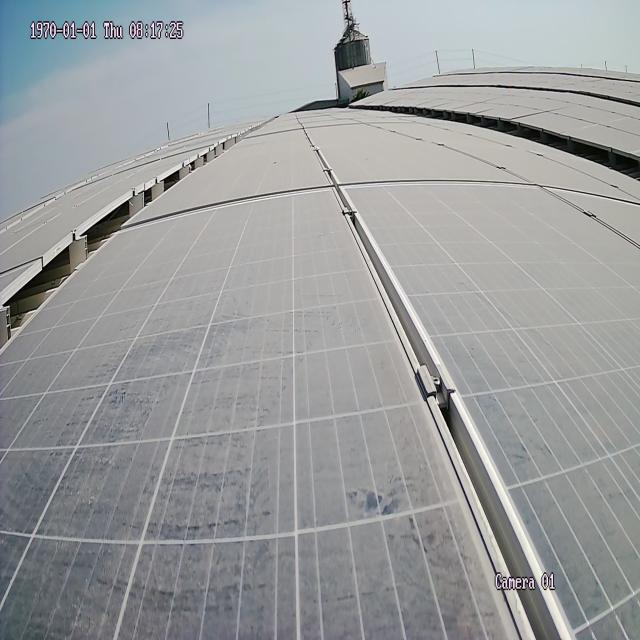interior panel: (321, 197, 570, 596), (395, 169, 566, 209), (195, 182, 311, 235), (294, 124, 341, 172)
outher panel: (7, 163, 196, 368), (394, 101, 640, 192)
